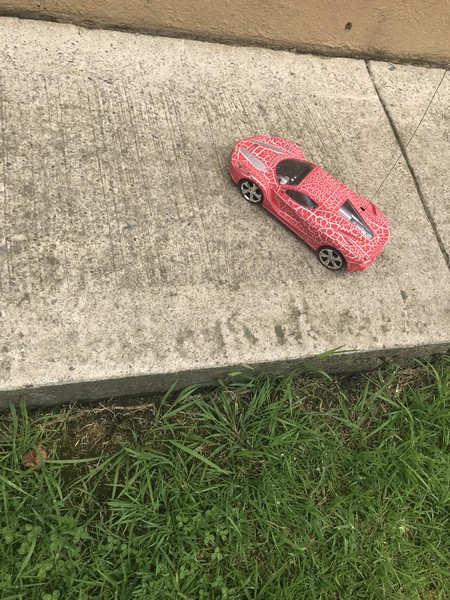RC: (226, 133, 392, 276)
